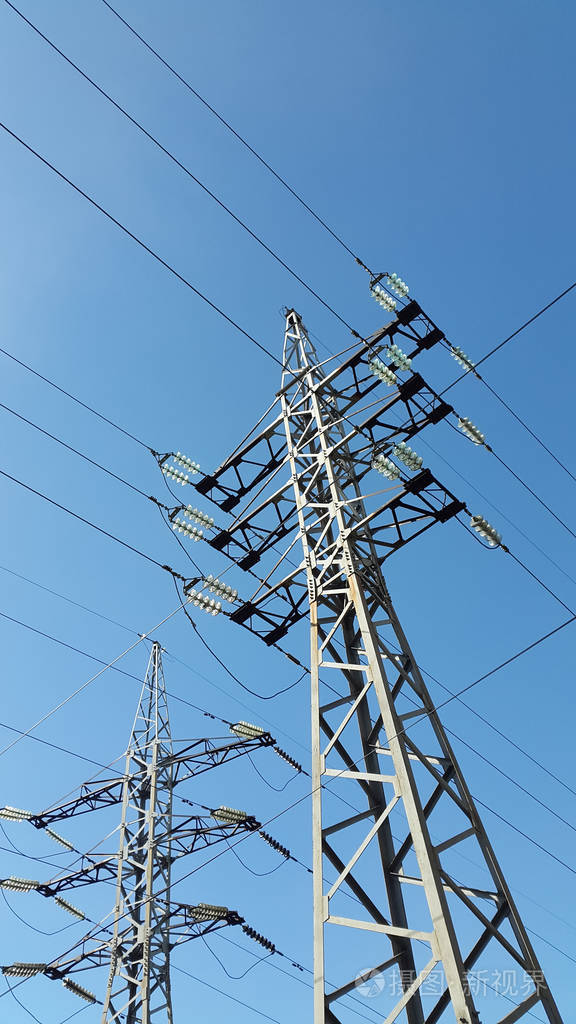insulator: (185, 571, 236, 616), (364, 345, 410, 386), (370, 445, 423, 480), (371, 269, 407, 311), (171, 506, 218, 538), (158, 449, 195, 485), (472, 510, 506, 547), (456, 411, 484, 446), (447, 346, 480, 372)
